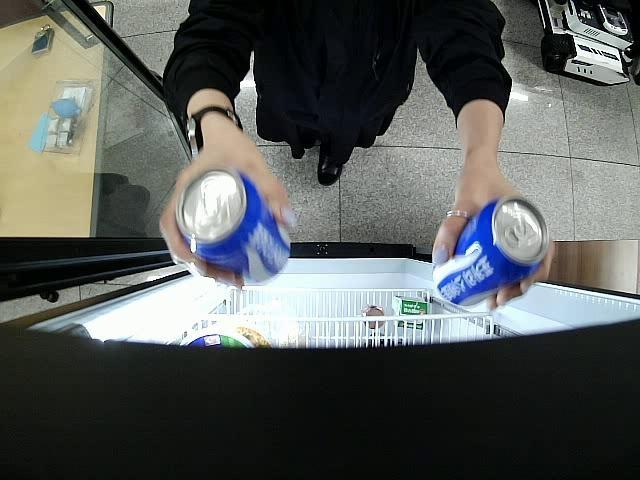13_pocariSweat: (176, 164, 292, 286), (431, 195, 548, 308)
